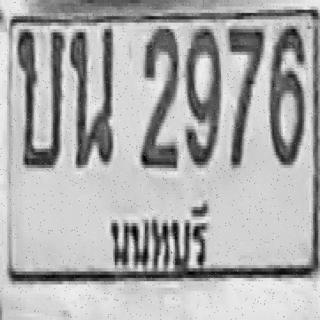A25: (69, 23, 113, 165)
A26: (16, 26, 64, 165)
N02: (140, 24, 177, 166)
N06: (267, 23, 304, 165)
N07: (226, 23, 263, 165)
N09: (184, 26, 219, 165)
P37: (102, 194, 218, 279)
